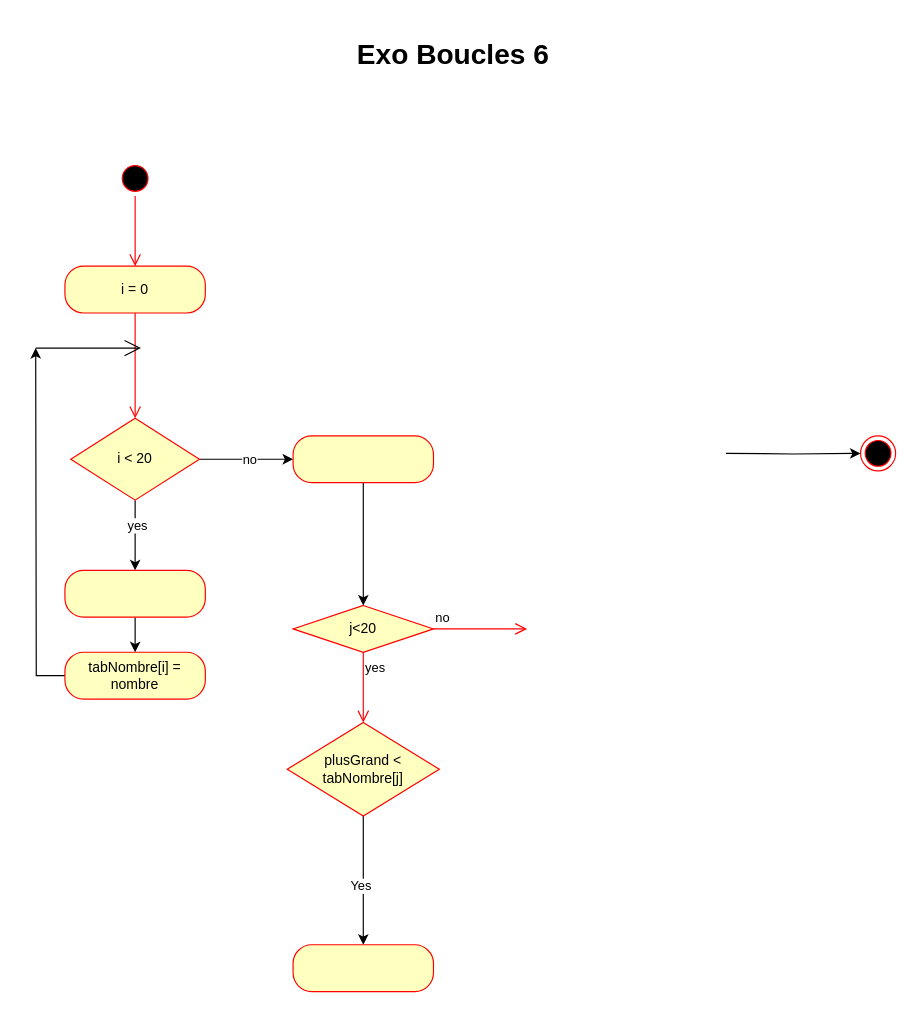
The diagram is 916 pixels wide and 1012 high, and some of its shapes have lost their labels. The shapes that lost their labels are listed below. From the top down, each one's centre as x and y in pixels, then its label:
At [362,459]: "j = 0".
At [134,593]: "Saisir un nombre".
At [362,968]: "plusGrand = tabNombre[j]".
